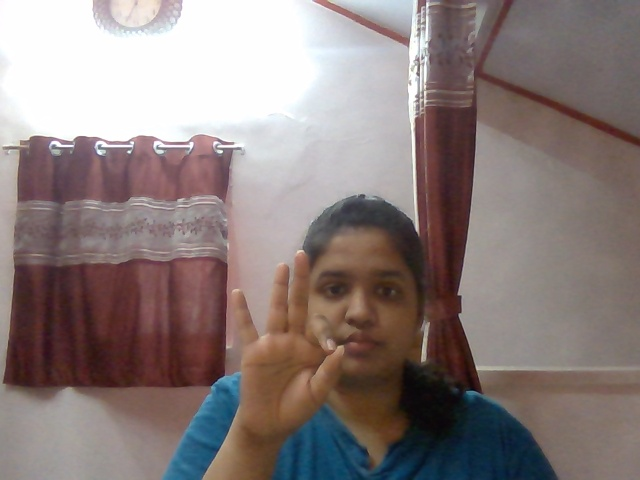f: (220, 244, 353, 413)
